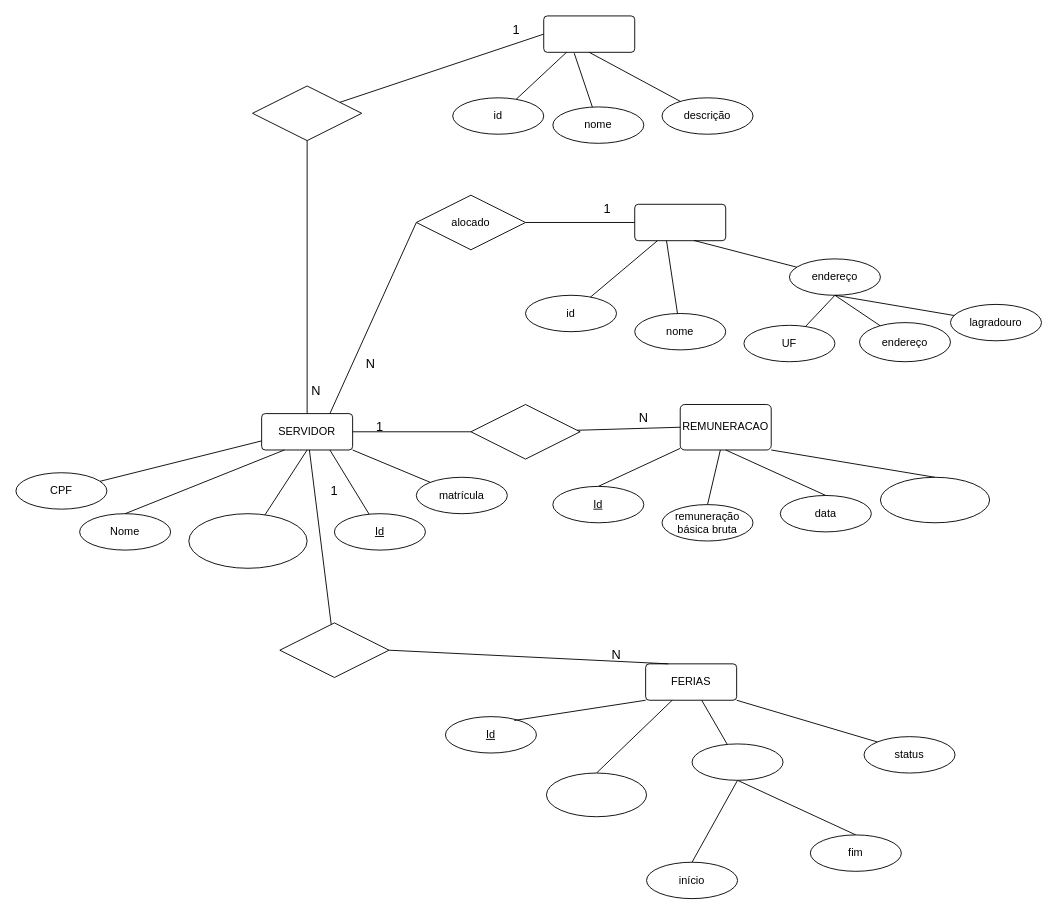
This 1057x915 diagram has some shape labels left out. The shapes that lost their labels are listed below. From the top down, each one's box as (x1, y1, x2, y2) in pixels, then its label:
(543, 15, 635, 52): CARGO
(252, 85, 362, 141): Possui
(634, 203, 726, 241): ORGÃO
(470, 404, 580, 459): Recebe
(880, 476, 990, 523): adicional de férias
(188, 513, 307, 568): data de ingresso no cargo
(279, 622, 389, 677): Solicita
(691, 743, 783, 780): período de férias
(546, 772, 647, 817): período aquisitivo
